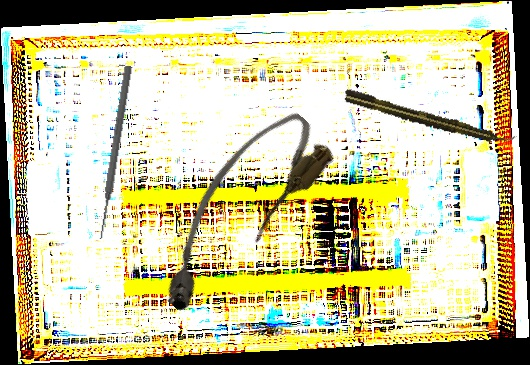Cannula: (131, 98, 342, 323)
Handpiece: (341, 86, 517, 152)
Pusher: (95, 65, 134, 240)
